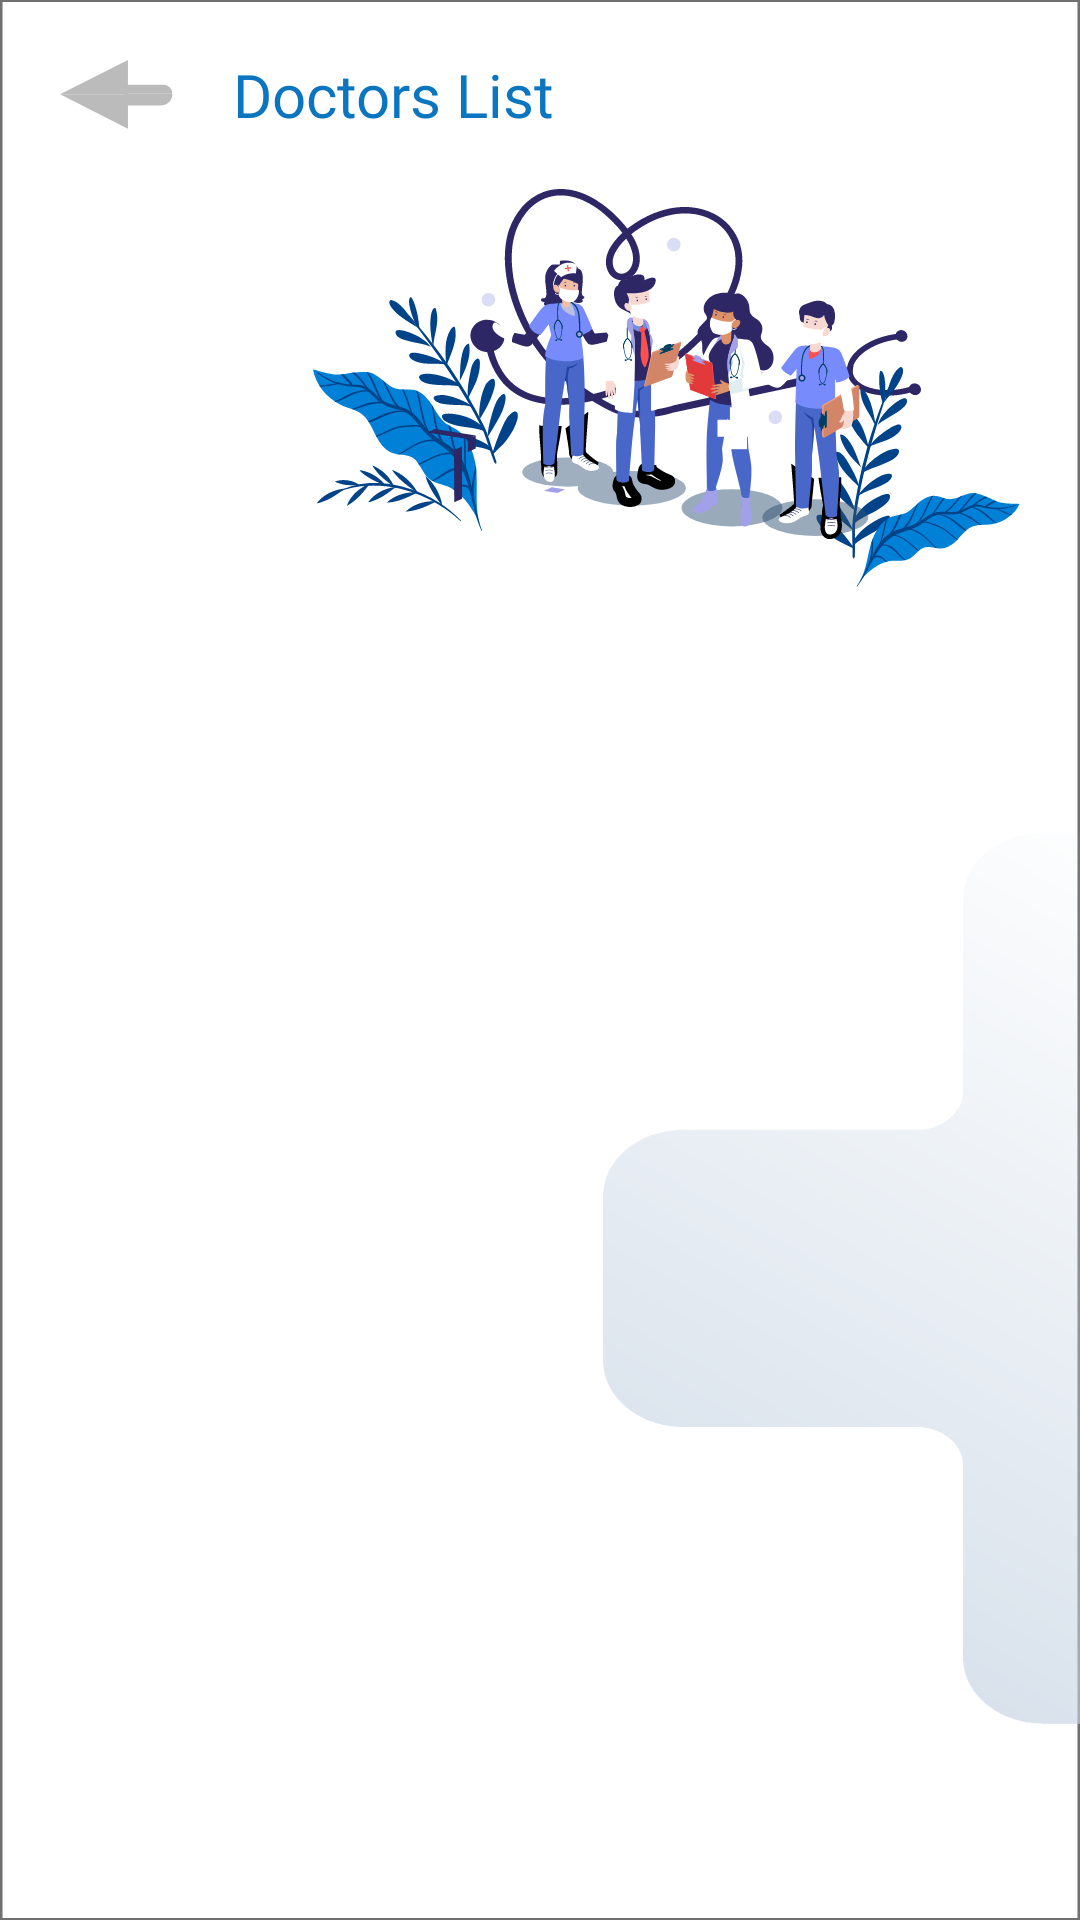

Screen size 1080x1920. Icon name, then its center in pixels as (x=x, y=y):
back: (x=116, y=94)
